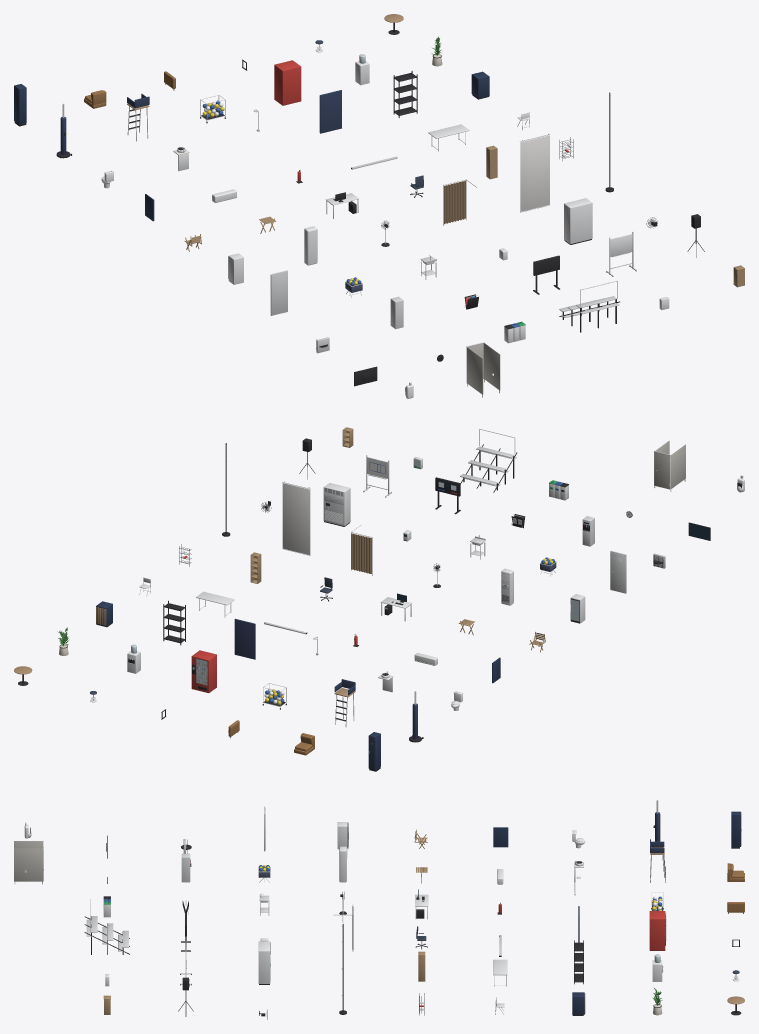
Rendered from gym-kit.glb.
3 views of the same model, one above another, from view 1: azimuth 30°, elevation 25°; view 2: azimuth 150°, elevation 25°; view 3: azimuth 270°, elevation 25° (orthographic). The views are drawn at different scales.
Parts seen in each view (by area): view 1: banner_panel, wc_stall, package_ac, vending, curtain_booth, crash_pad, bleacher_mod, prefab_door, shelf_bay; view 2: banner_panel, wc_stall, package_ac, bleacher_mod, vending, curtain_booth, crash_pad, prefab_door, shelf_bay; view 3: wc_stall, bleacher_mod, vending, package_ac, locker_col, shelf_bay.
Boxes of the visible parts, x1,y1,x2,y2 form: banner_panel: (520,134,550,212); wc_stall: (466,342,500,397); package_ac: (564,198,592,244); vending: (274,60,301,105); curtain_booth: (443,179,476,225); crash_pad: (319,90,341,133); bleacher_mod: (559,280,619,332); prefab_door: (270,270,287,315); shelf_bay: (393,71,417,117); banner_panel: (282,481,310,555); wc_stall: (654,440,685,491); package_ac: (323,483,350,526); bleacher_mod: (460,429,517,492); vending: (191,650,216,692); curtain_booth: (351,524,372,575); crash_pad: (234,618,255,659); prefab_door: (610,551,626,593); shelf_bay: (163,600,185,645); wc_stall: (14,840,43,884); bleacher_mod: (84,899,129,954); vending: (649,911,666,950); package_ac: (258,941,270,984); locker_col: (731,811,741,848); shelf_bay: (574,940,583,984).
Size of the model in its own units: 21.08 by 5.36 by 37.2.
